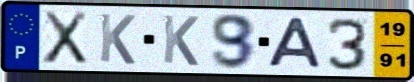3: (325, 16, 370, 71)
9: (209, 12, 259, 71)
A: (265, 16, 325, 71)
K: (160, 13, 201, 68), (97, 12, 137, 67)
X: (41, 9, 90, 66)
